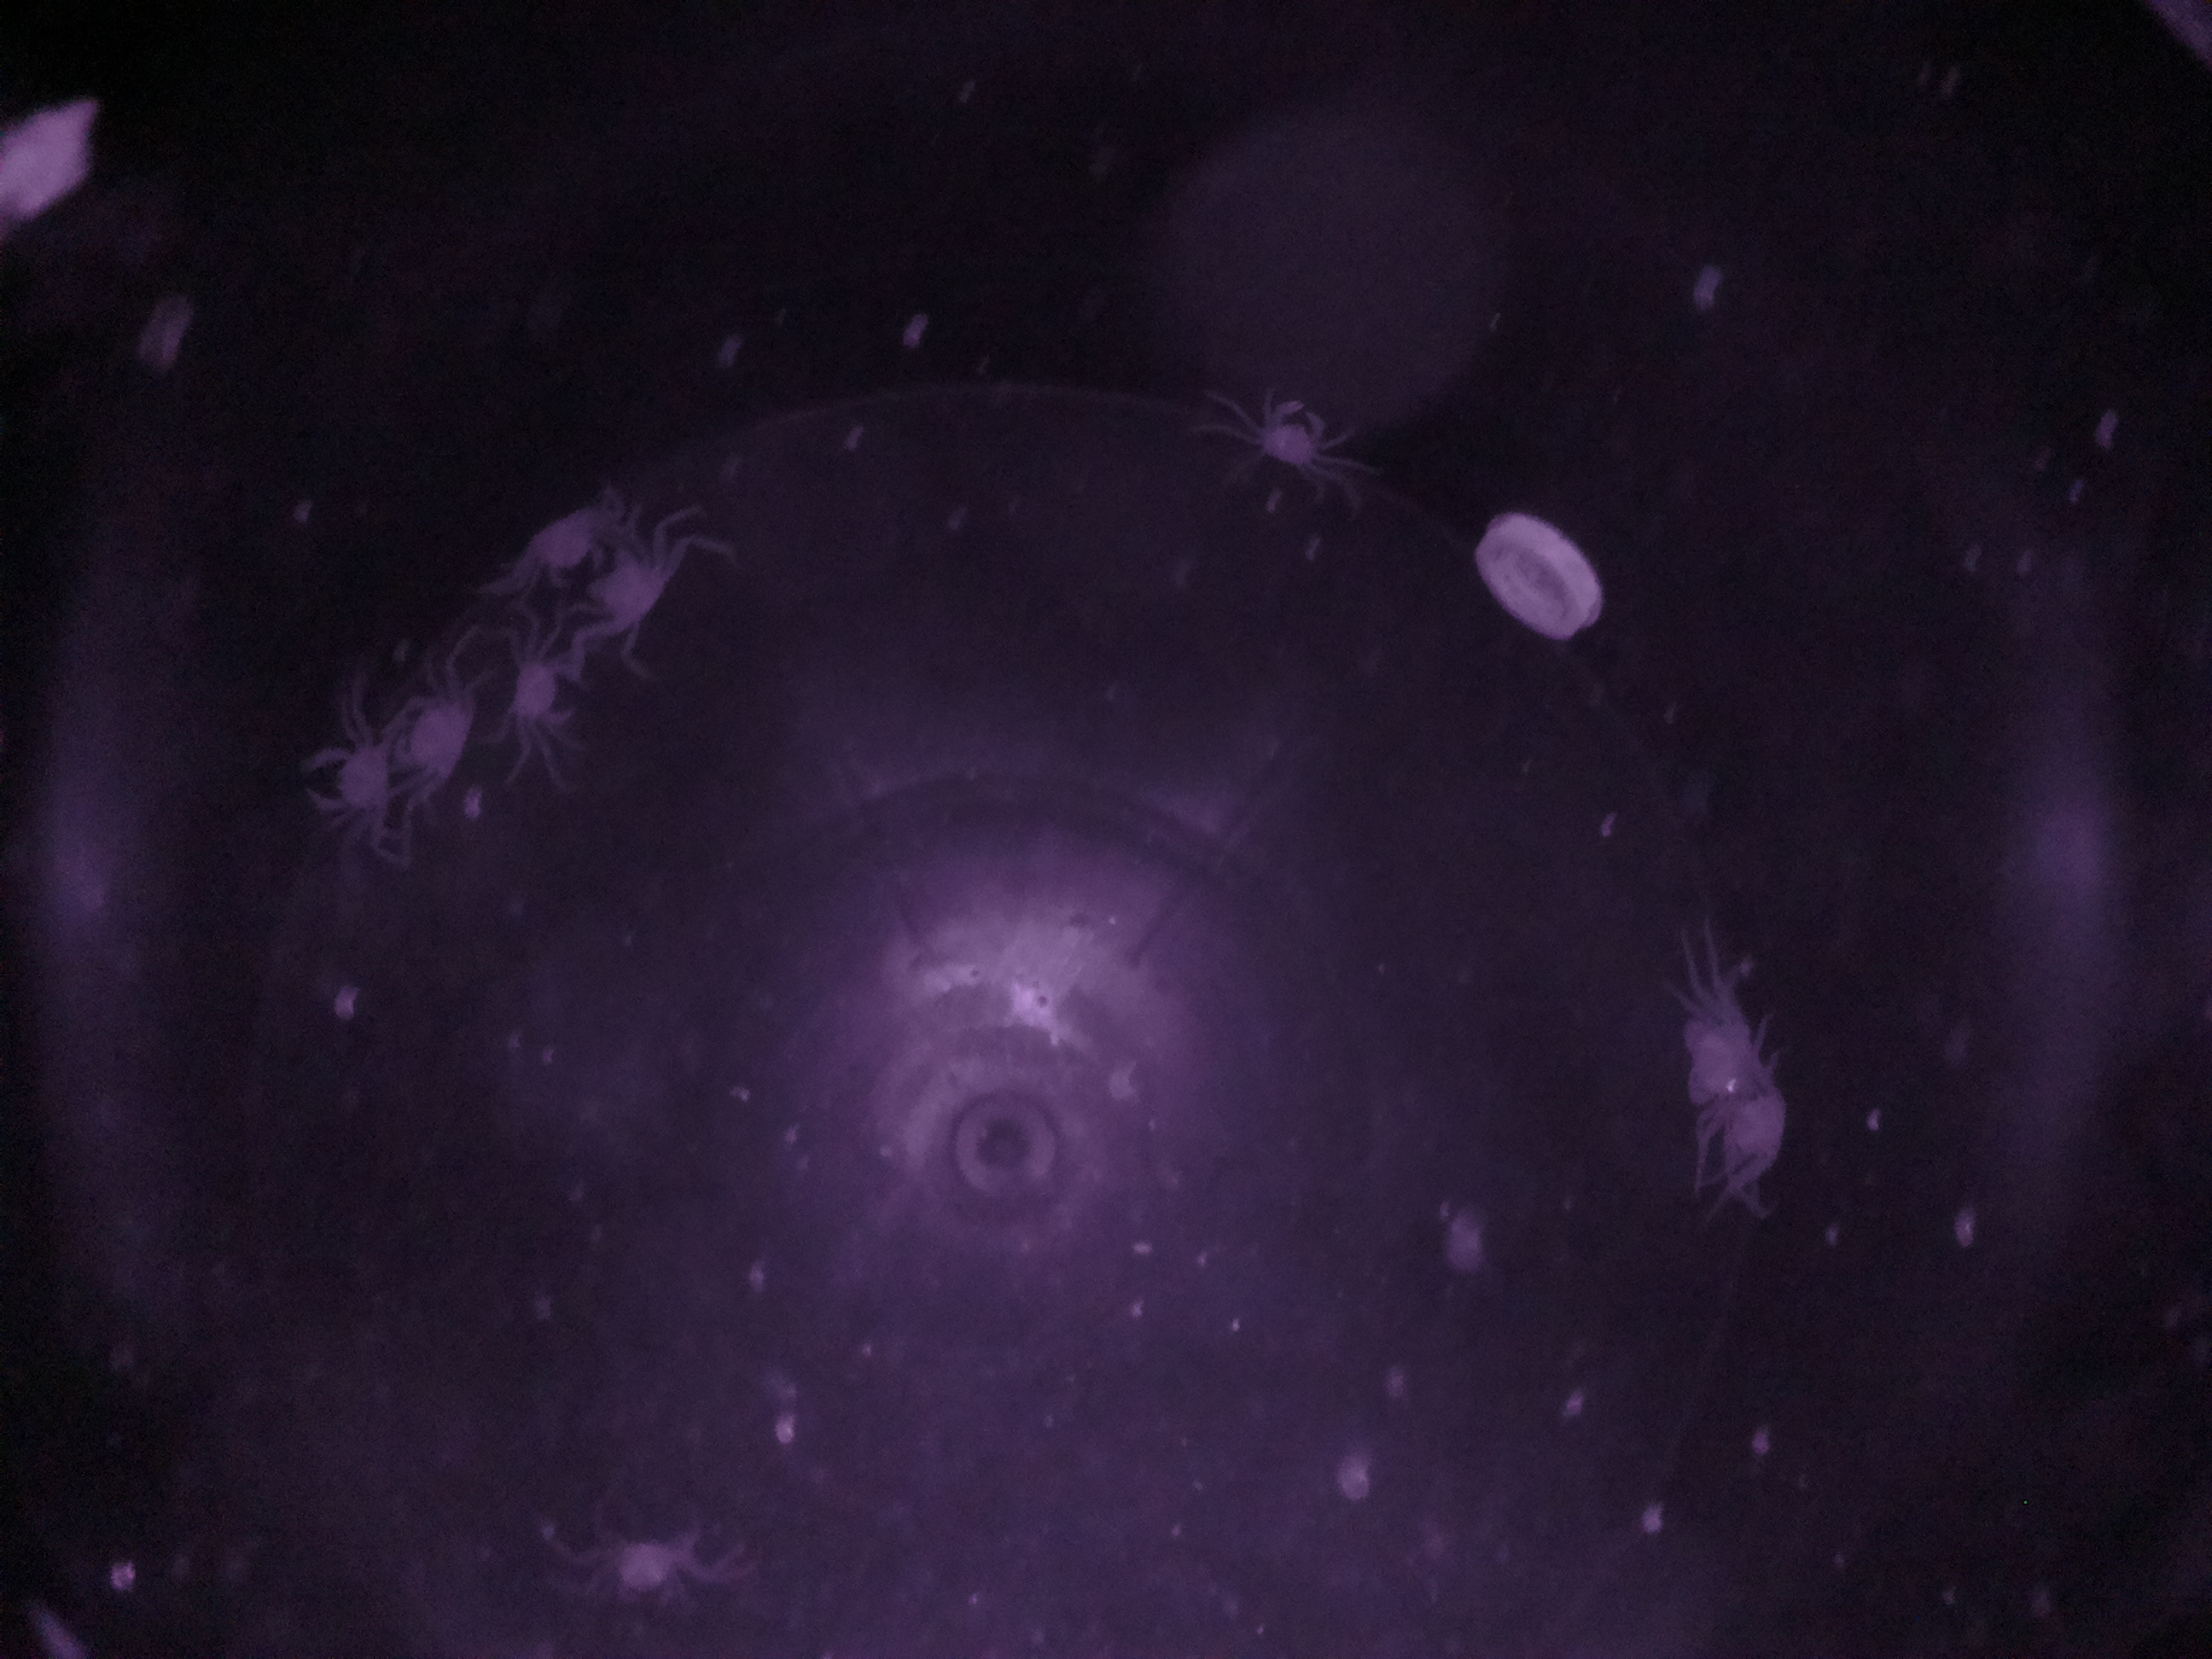Crab: (1656, 990, 1782, 1126), (570, 530, 690, 640), (491, 640, 603, 742), (1240, 385, 1343, 493), (294, 734, 399, 838)
